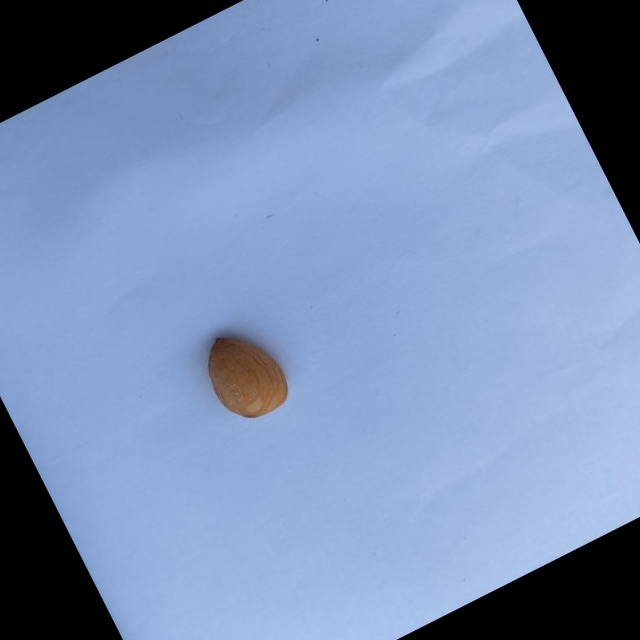grade2: (190, 313, 304, 435)
